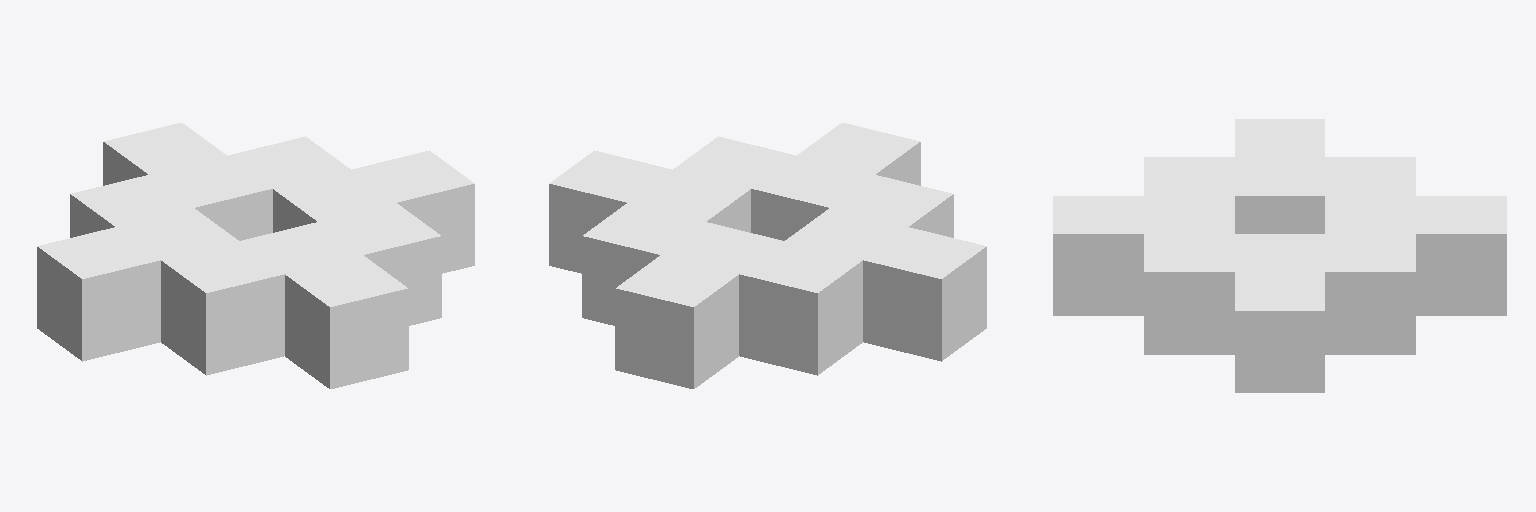
Rendered from turret-0.obj.
3 views of the same model, side by side, from view 1: azimuth 30°, elevation 25°; view 2: azimuth 150°, elevation 25°; view 3: azimuth 270°, elevation 25° (orthographic).
Visible parts, largest first — view 1: object 1; view 2: object 1; view 3: object 1.
Boxes of the visible parts, x1,y1,x2,y2 form: object 1: [37, 123, 474, 388]; object 1: [549, 123, 986, 388]; object 1: [1053, 119, 1506, 392].
Size of the model in its own units: 0.5 by 0.1 by 0.5.